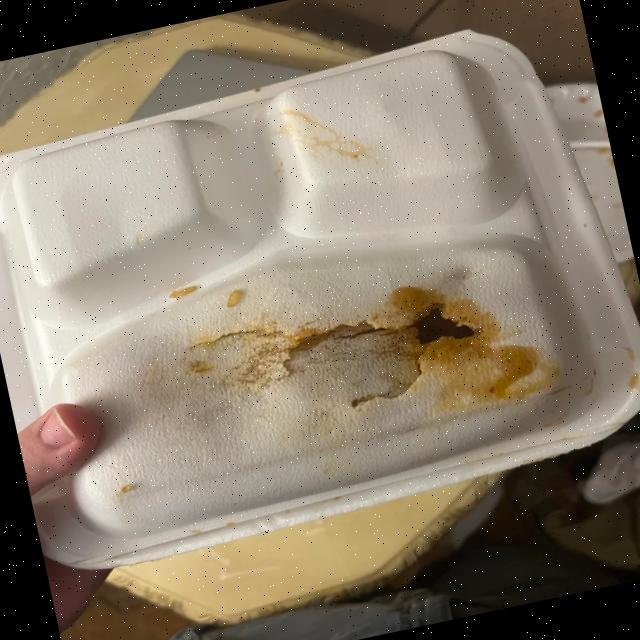styrofoam: (0, 3, 640, 584)
